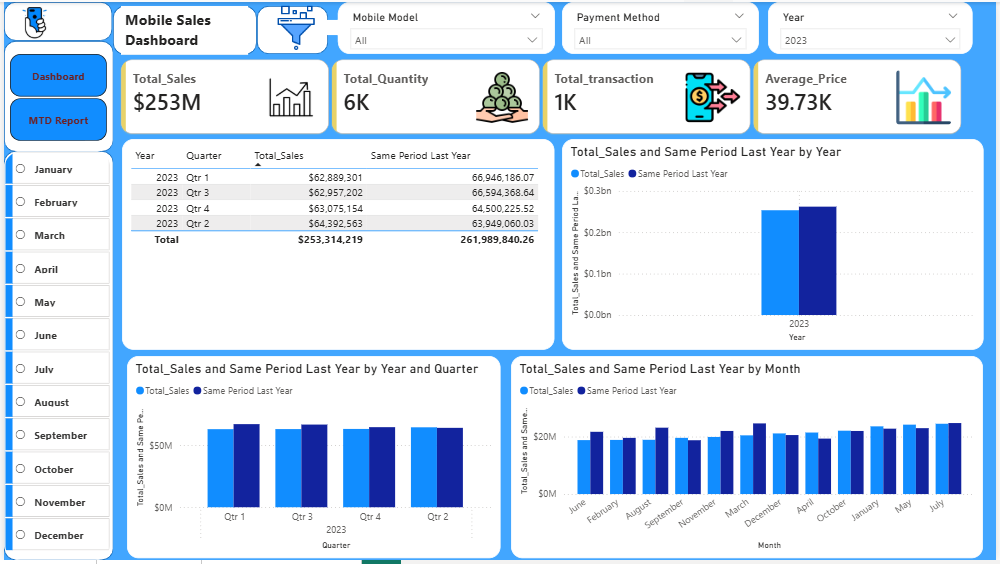

The dashboard page shown, as its layout file describes it:
{"tool":"powerbi","page":{"name":"Last Year Same Period","canvas":[1280,720],"ordinal":2},"visuals":[{"type":"shape","box":[0,0,139.8,49.9],"z":0},{"type":"cardVisual","fields":{"Data":["Sales_data.Total_Sales","Sales_data.Total_Quantity","Sales_data.Total_transaction","Sales_data.Average_Price"]},"box":[124.7,66.6,1139.5,110.6],"z":1000},{"type":"image","box":[0,0,79.9,57.1],"z":2000},{"type":"shape","box":[0,50.1,141.2,143],"z":3000},{"type":"slicer","fields":{"Values":["Sales_data.Mobile Model"]},"box":[430.9,0,279.7,67.1],"z":4000},{"type":"slicer","fields":{"Values":["Sales_data.Payment Method"]},"box":[720.6,0,254,67.1],"z":5000},{"type":"slicer","fields":{"Values":["Custom_Calendar.Date.Variation.Date Hierarchy.Year"]},"box":[986,0,264,67.1],"z":6000},{"type":"shape","box":[326.5,5.2,91.6,61.9],"z":7000},{"type":"shape","box":[415.5,12.9,29.7,40],"z":8000},{"type":"image","box":[326.5,3.9,100.6,59.4],"z":9000},{"type":"shape","box":[141.3,5.7,185.5,62.8],"z":10000},{"type":"textbox","box":[151.3,5.7,164.1,62.8],"z":11000},{"type":"shape","box":[0,192.6,141.3,528],"z":12000},{"type":"advancedSlicerVisual","fields":{"Values":["Custom_Calendar.Date.Variation.Date Hierarchy.Month"]},"box":[0,192,138.4,528],"z":13000},{"type":"tableEx","fields":{"Values":["Custom_Calendar.Date.Variation.Date Hierarchy.Year","Custom_Calendar.Date.Variation.Date Hierarchy.Quarter","Sales_data.Total_Sales","Sales_data.Same Period Last Year"]},"box":[151.7,177.2,558.4,272.1],"z":14000},{"type":"clusteredColumnChart","fields":{"Category":["Custom_Calendar.Date.Variation.Date Hierarchy.Year","Custom_Calendar.Date.Variation.Date Hierarchy.Quarter","Custom_Calendar.Date.Variation.Date Hierarchy.Month","Custom_Calendar.Date.Variation.Date Hierarchy.Day"],"Y":["Sales_data.Total_Sales","Sales_data.Same Period Last Year"]},"box":[720,177.2,544.3,272.1],"z":15000},{"type":"clusteredColumnChart","fields":{"Category":["Custom_Calendar.Date.Variation.Date Hierarchy.Year","Custom_Calendar.Date.Variation.Date Hierarchy.Quarter","Custom_Calendar.Date.Variation.Date Hierarchy.Month","Custom_Calendar.Date.Variation.Date Hierarchy.Day"],"Y":["Sales_data.Total_Sales","Sales_data.Same Period Last Year"]},"box":[158.4,456.6,482.3,261.1],"z":16000},{"type":"clusteredColumnChart","fields":{"Category":["Custom_Calendar.Date.Variation.Date Hierarchy.Month"],"Y":["Sales_data.Total_Sales","Sales_data.Same Period Last Year"]},"box":[653.6,456.6,609.3,261.1],"z":17000},{"type":"pageNavigator","box":[7.7,67.1,125.2,113.5],"z":18000}]}

Visuals, with their boxes in screenshot pixels (x1, y1, x2, y2), scaled from the page's 1280x720 canvas onto the 1000x564 screenshot:
shape: (0, 0, 109, 39)
cardVisual - Sales_data.Total_Sales x Sales_data.Total_Quantity: (97, 52, 988, 139)
image: (0, 0, 62, 45)
shape: (0, 39, 110, 151)
slicer - Sales_data.Mobile Model: (337, 0, 555, 53)
slicer - Sales_data.Payment Method: (563, 0, 761, 53)
slicer - Custom_Calendar.Date.Variation.Date Hierarchy.Year: (770, 0, 977, 53)
shape: (255, 4, 327, 53)
shape: (325, 10, 348, 41)
image: (255, 3, 334, 50)
shape: (110, 4, 255, 54)
textbox: (118, 4, 246, 54)
shape: (0, 151, 110, 563)
advancedSlicerVisual - Custom_Calendar.Date.Variation.Date Hierarchy.Month: (0, 150, 108, 563)
tableEx - Custom_Calendar.Date.Variation.Date Hierarchy.Year x Custom_Calendar.Date.Variation.Date Hierarchy.Quarter: (119, 139, 555, 352)
clusteredColumnChart - Custom_Calendar.Date.Variation.Date Hierarchy.Year x Custom_Calendar.Date.Variation.Date Hierarchy.Quarter: (562, 139, 988, 352)
clusteredColumnChart - Custom_Calendar.Date.Variation.Date Hierarchy.Year x Custom_Calendar.Date.Variation.Date Hierarchy.Quarter: (124, 358, 501, 562)
clusteredColumnChart - Custom_Calendar.Date.Variation.Date Hierarchy.Month x Sales_data.Total_Sales: (511, 358, 987, 562)
pageNavigator: (6, 53, 104, 141)
